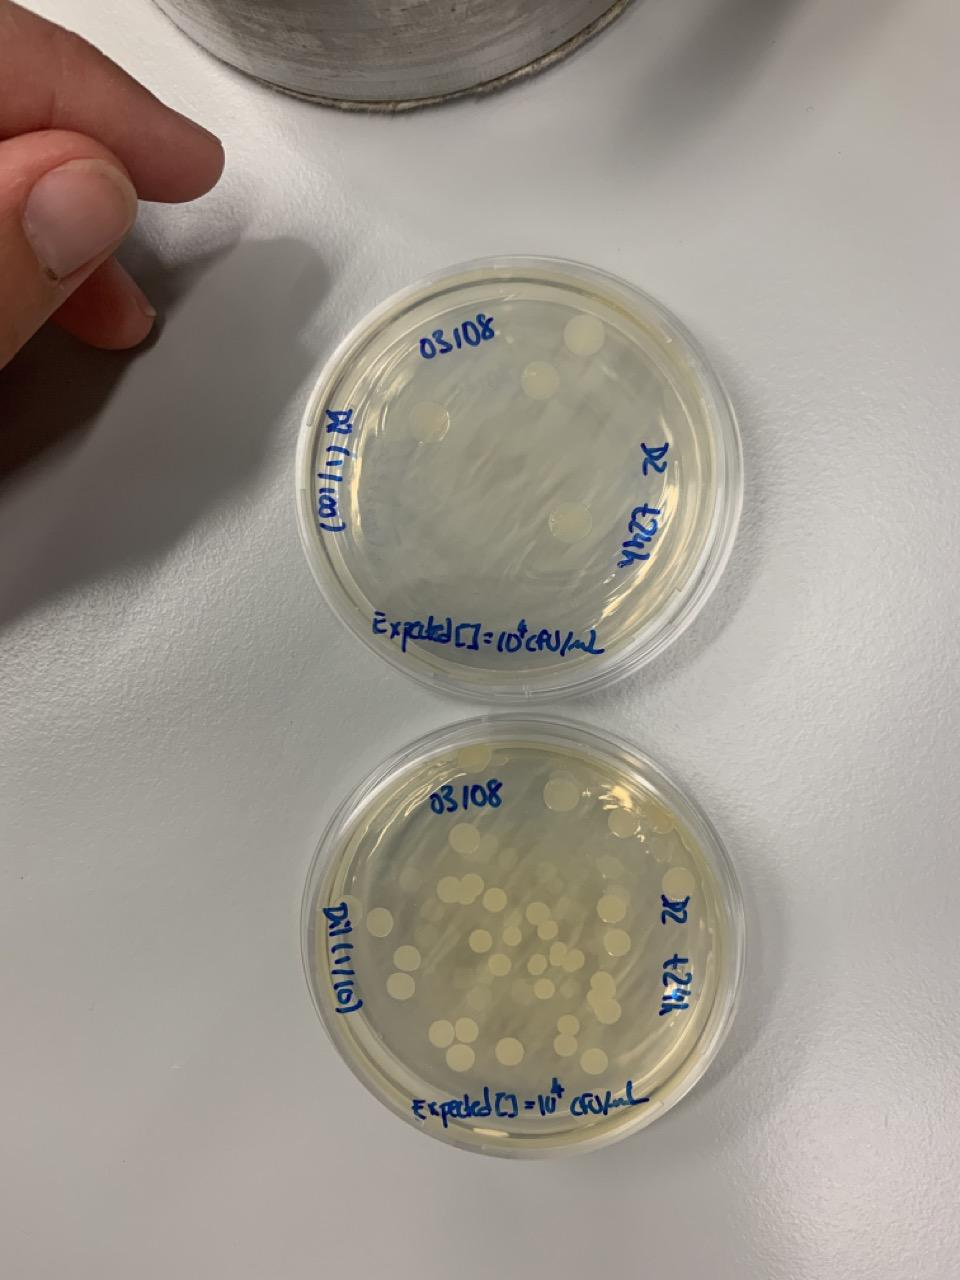colony: (548, 498, 595, 547), (562, 311, 607, 359), (406, 399, 451, 446), (586, 971, 622, 1024), (518, 359, 563, 402), (435, 871, 484, 906), (543, 774, 583, 814), (661, 865, 697, 903), (447, 820, 483, 856), (607, 804, 641, 841), (457, 742, 494, 774), (550, 941, 585, 973), (332, 894, 365, 926), (595, 892, 628, 924), (645, 803, 678, 836), (600, 926, 633, 957), (383, 972, 416, 1002), (493, 1036, 525, 1066), (365, 906, 394, 939), (579, 1046, 609, 1076), (393, 943, 423, 974), (446, 1043, 476, 1072), (481, 886, 509, 914), (428, 1018, 454, 1048), (525, 899, 553, 927), (454, 1016, 480, 1043), (468, 927, 493, 953), (486, 953, 512, 979), (553, 1033, 579, 1057), (500, 924, 522, 947), (557, 1014, 581, 1035), (533, 979, 556, 1001), (527, 953, 549, 977), (536, 919, 559, 940)
